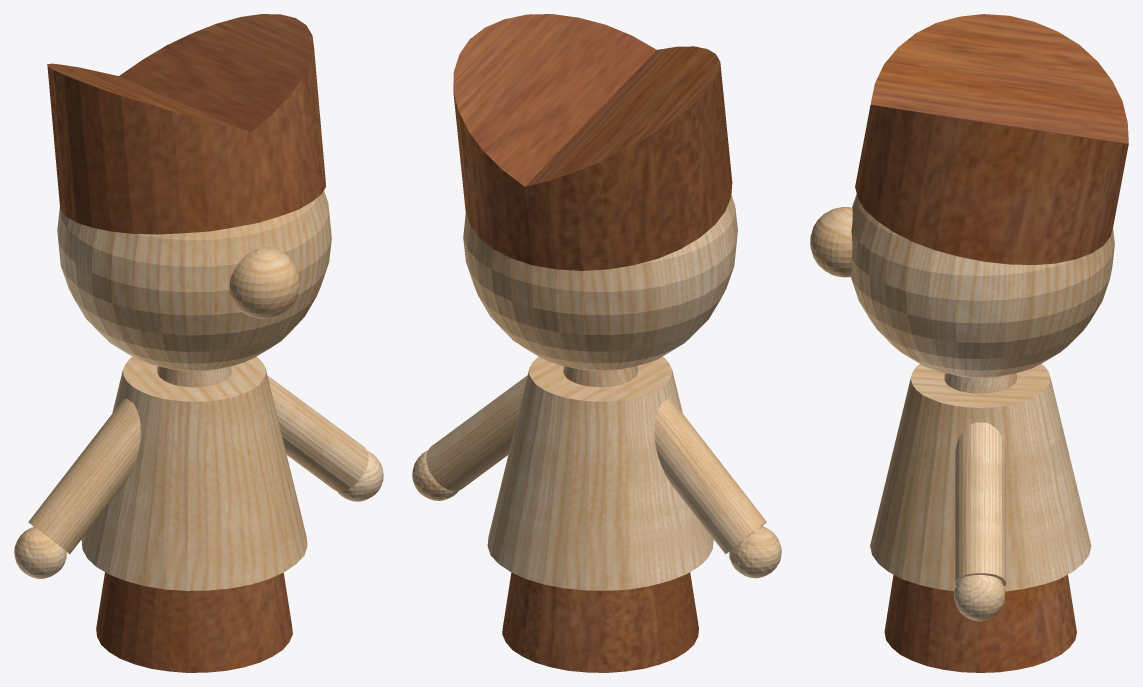
The model's file is woodToy.obj.
3 views of the same model, side by side, from view 1: azimuth 30°, elevation 25°; view 2: azimuth 150°, elevation 25°; view 3: azimuth 270°, elevation 25° (orthographic). The views are drawn at different scales.
Parts seen in each view (by area): view 1: S_SerbianHat_Cylinder.006, S_Body_Cylinder.001, S_Head_Sphere.001, S_Legs_Cylinder.002, S_Rhand_Cylinder.003, S_Lhand_Cylinder.004, S_nose_Sphere.002, S_Rfingers_Sphere.003, S_Neck_Cylinder, S_Lfingers_Sphere.004; view 2: S_SerbianHat_Cylinder.006, S_Body_Cylinder.001, S_Head_Sphere.001, S_Legs_Cylinder.002, S_Rhand_Cylinder.003, S_Lhand_Cylinder.004, S_Rfingers_Sphere.003, S_Neck_Cylinder, S_Lfingers_Sphere.004; view 3: S_SerbianHat_Cylinder.006, S_Body_Cylinder.001, S_Head_Sphere.001, S_Legs_Cylinder.002, S_Lhand_Cylinder.004, S_nose_Sphere.002, S_Lfingers_Sphere.004, S_Neck_Cylinder.
Boxes of the visible parts, x1,y1,x2,y2 form: S_SerbianHat_Cylinder.006: (47,14,326,234); S_Body_Cylinder.001: (81,356,307,590); S_Head_Sphere.001: (57,191,331,371); S_Legs_Cylinder.002: (96,572,292,672); S_Rhand_Cylinder.003: (28,398,140,554); S_Lhand_Cylinder.004: (267,375,368,491); S_nose_Sphere.002: (229,247,299,318); S_Rfingers_Sphere.003: (14,527,66,578); S_Neck_Cylinder: (157,366,231,387); S_Lfingers_Sphere.004: (337,451,383,501); S_SerbianHat_Cylinder.006: (453,14,732,270); S_Body_Cylinder.001: (487,356,713,590); S_Head_Sphere.001: (463,195,737,371); S_Legs_Cylinder.002: (502,572,698,672); S_Rhand_Cylinder.003: (654,398,766,554); S_Lhand_Cylinder.004: (426,375,527,491); S_Rfingers_Sphere.003: (729,526,781,578); S_Neck_Cylinder: (563,366,637,387); S_Lfingers_Sphere.004: (412,450,458,500); S_SerbianHat_Cylinder.006: (855,14,1128,264); S_Body_Cylinder.001: (870,364,1091,591); S_Head_Sphere.001: (851,194,1114,378); S_Legs_Cylinder.002: (884,574,1076,672); S_Lhand_Cylinder.004: (955,422,1006,586); S_nose_Sphere.002: (810,207,852,277); S_Lfingers_Sphere.004: (954,574,1005,621); S_Neck_Cylinder: (944,373,1016,393).
Size of the model in its own units: 7.65 by 11.65 by 5.96.
2 materials, 2 textured.
